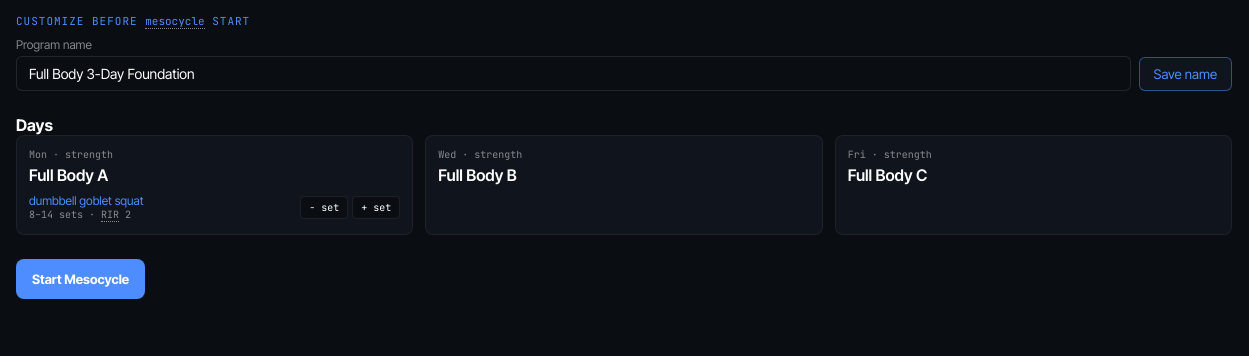
Scenario: <ForkWizard> › surfaces an error when the add-set PATCH fails
Expected: the text "8–14 sets · RIR 2" is shown, [29,208,144,222]
Step 1. Click the button "+ set" → [376, 208], box [352,196,400,219]
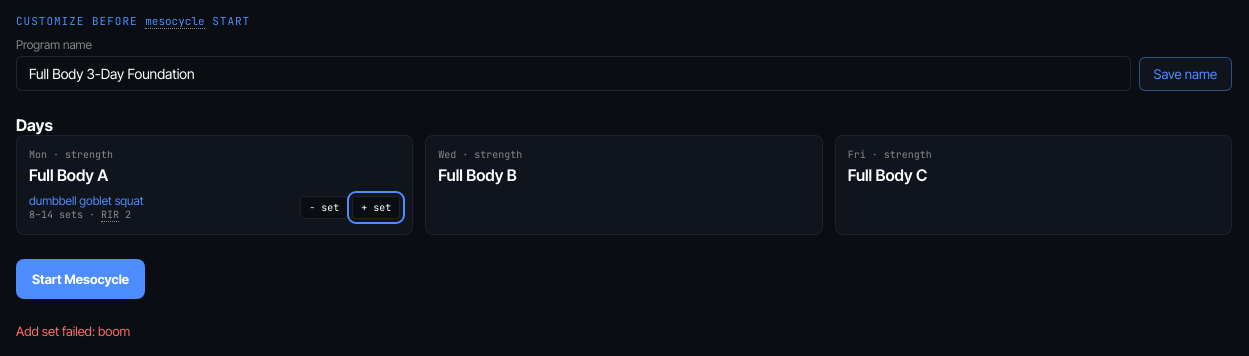
Result: the text "Add set failed: boom" is shown at [16,323,130,339]
